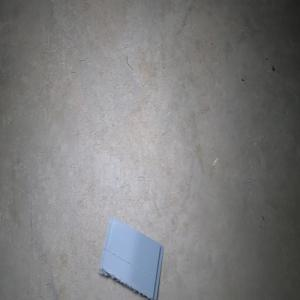PlasticPart: (98, 216, 164, 300)
